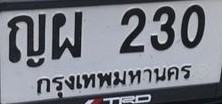txt10: (6, 13, 48, 69)
txt23: (50, 10, 85, 61)
